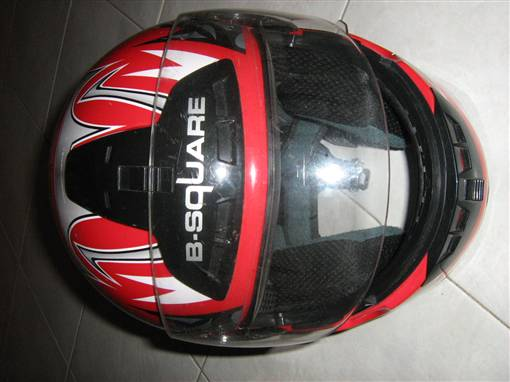helmet: (46, 34, 490, 328)
